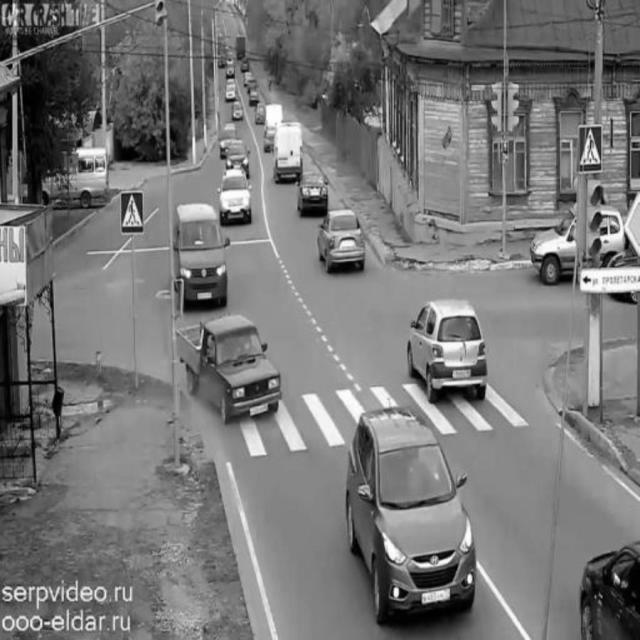vehicle: (340, 407, 478, 618), (175, 312, 285, 420), (405, 296, 491, 399), (529, 205, 627, 281), (578, 526, 640, 639), (172, 205, 230, 307), (37, 147, 113, 208), (315, 211, 369, 275), (273, 120, 305, 184), (217, 170, 253, 224), (295, 167, 329, 221), (225, 139, 255, 176), (254, 97, 270, 125), (223, 82, 239, 108), (229, 98, 245, 122), (239, 55, 253, 75)
